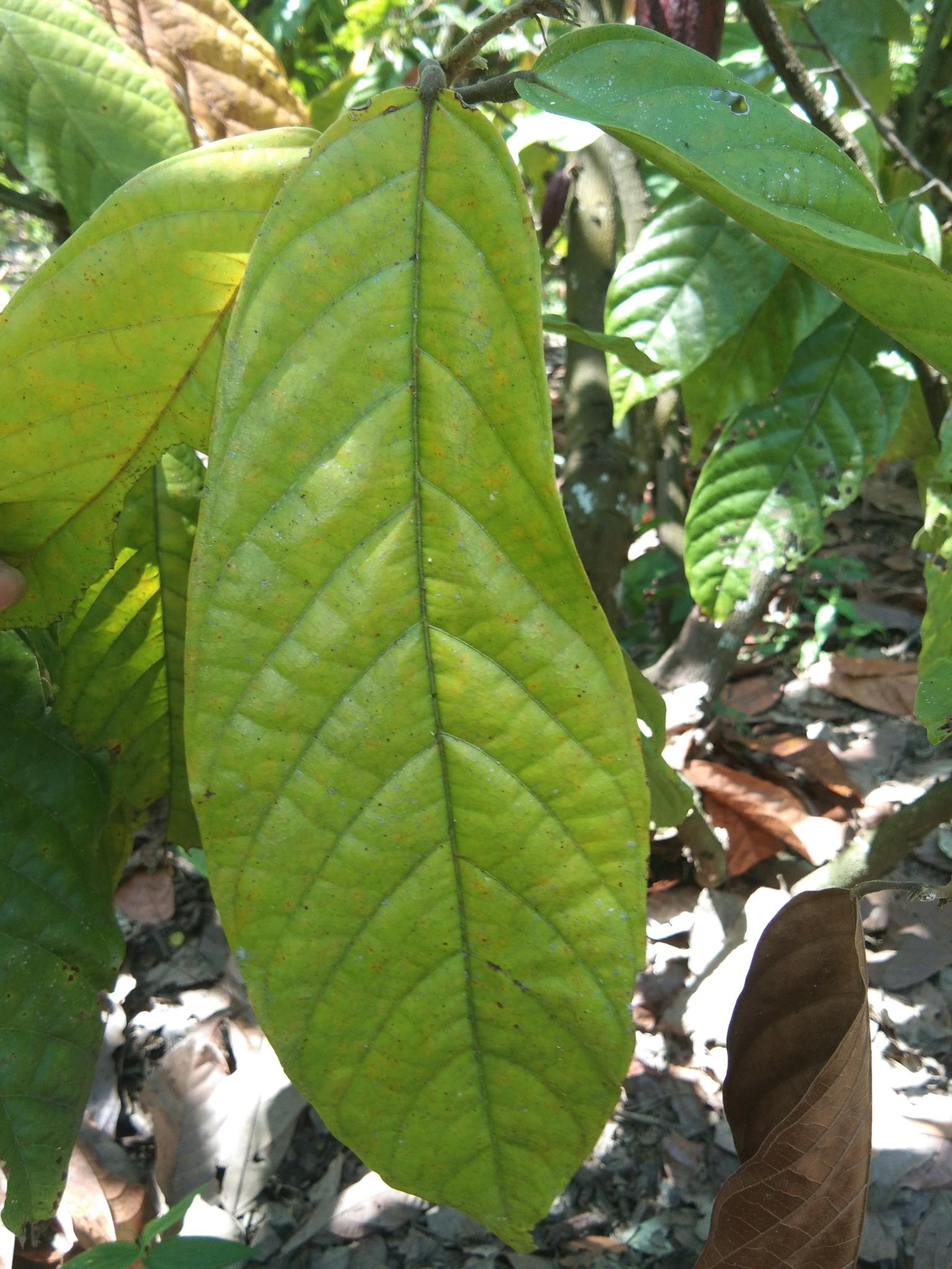Fosforo: (181, 68, 673, 1269)
